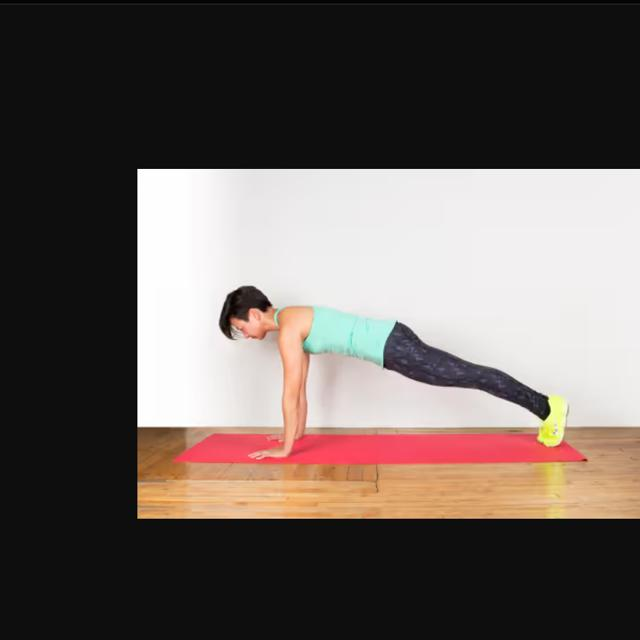Plank_Pose: (212, 280, 575, 465)
